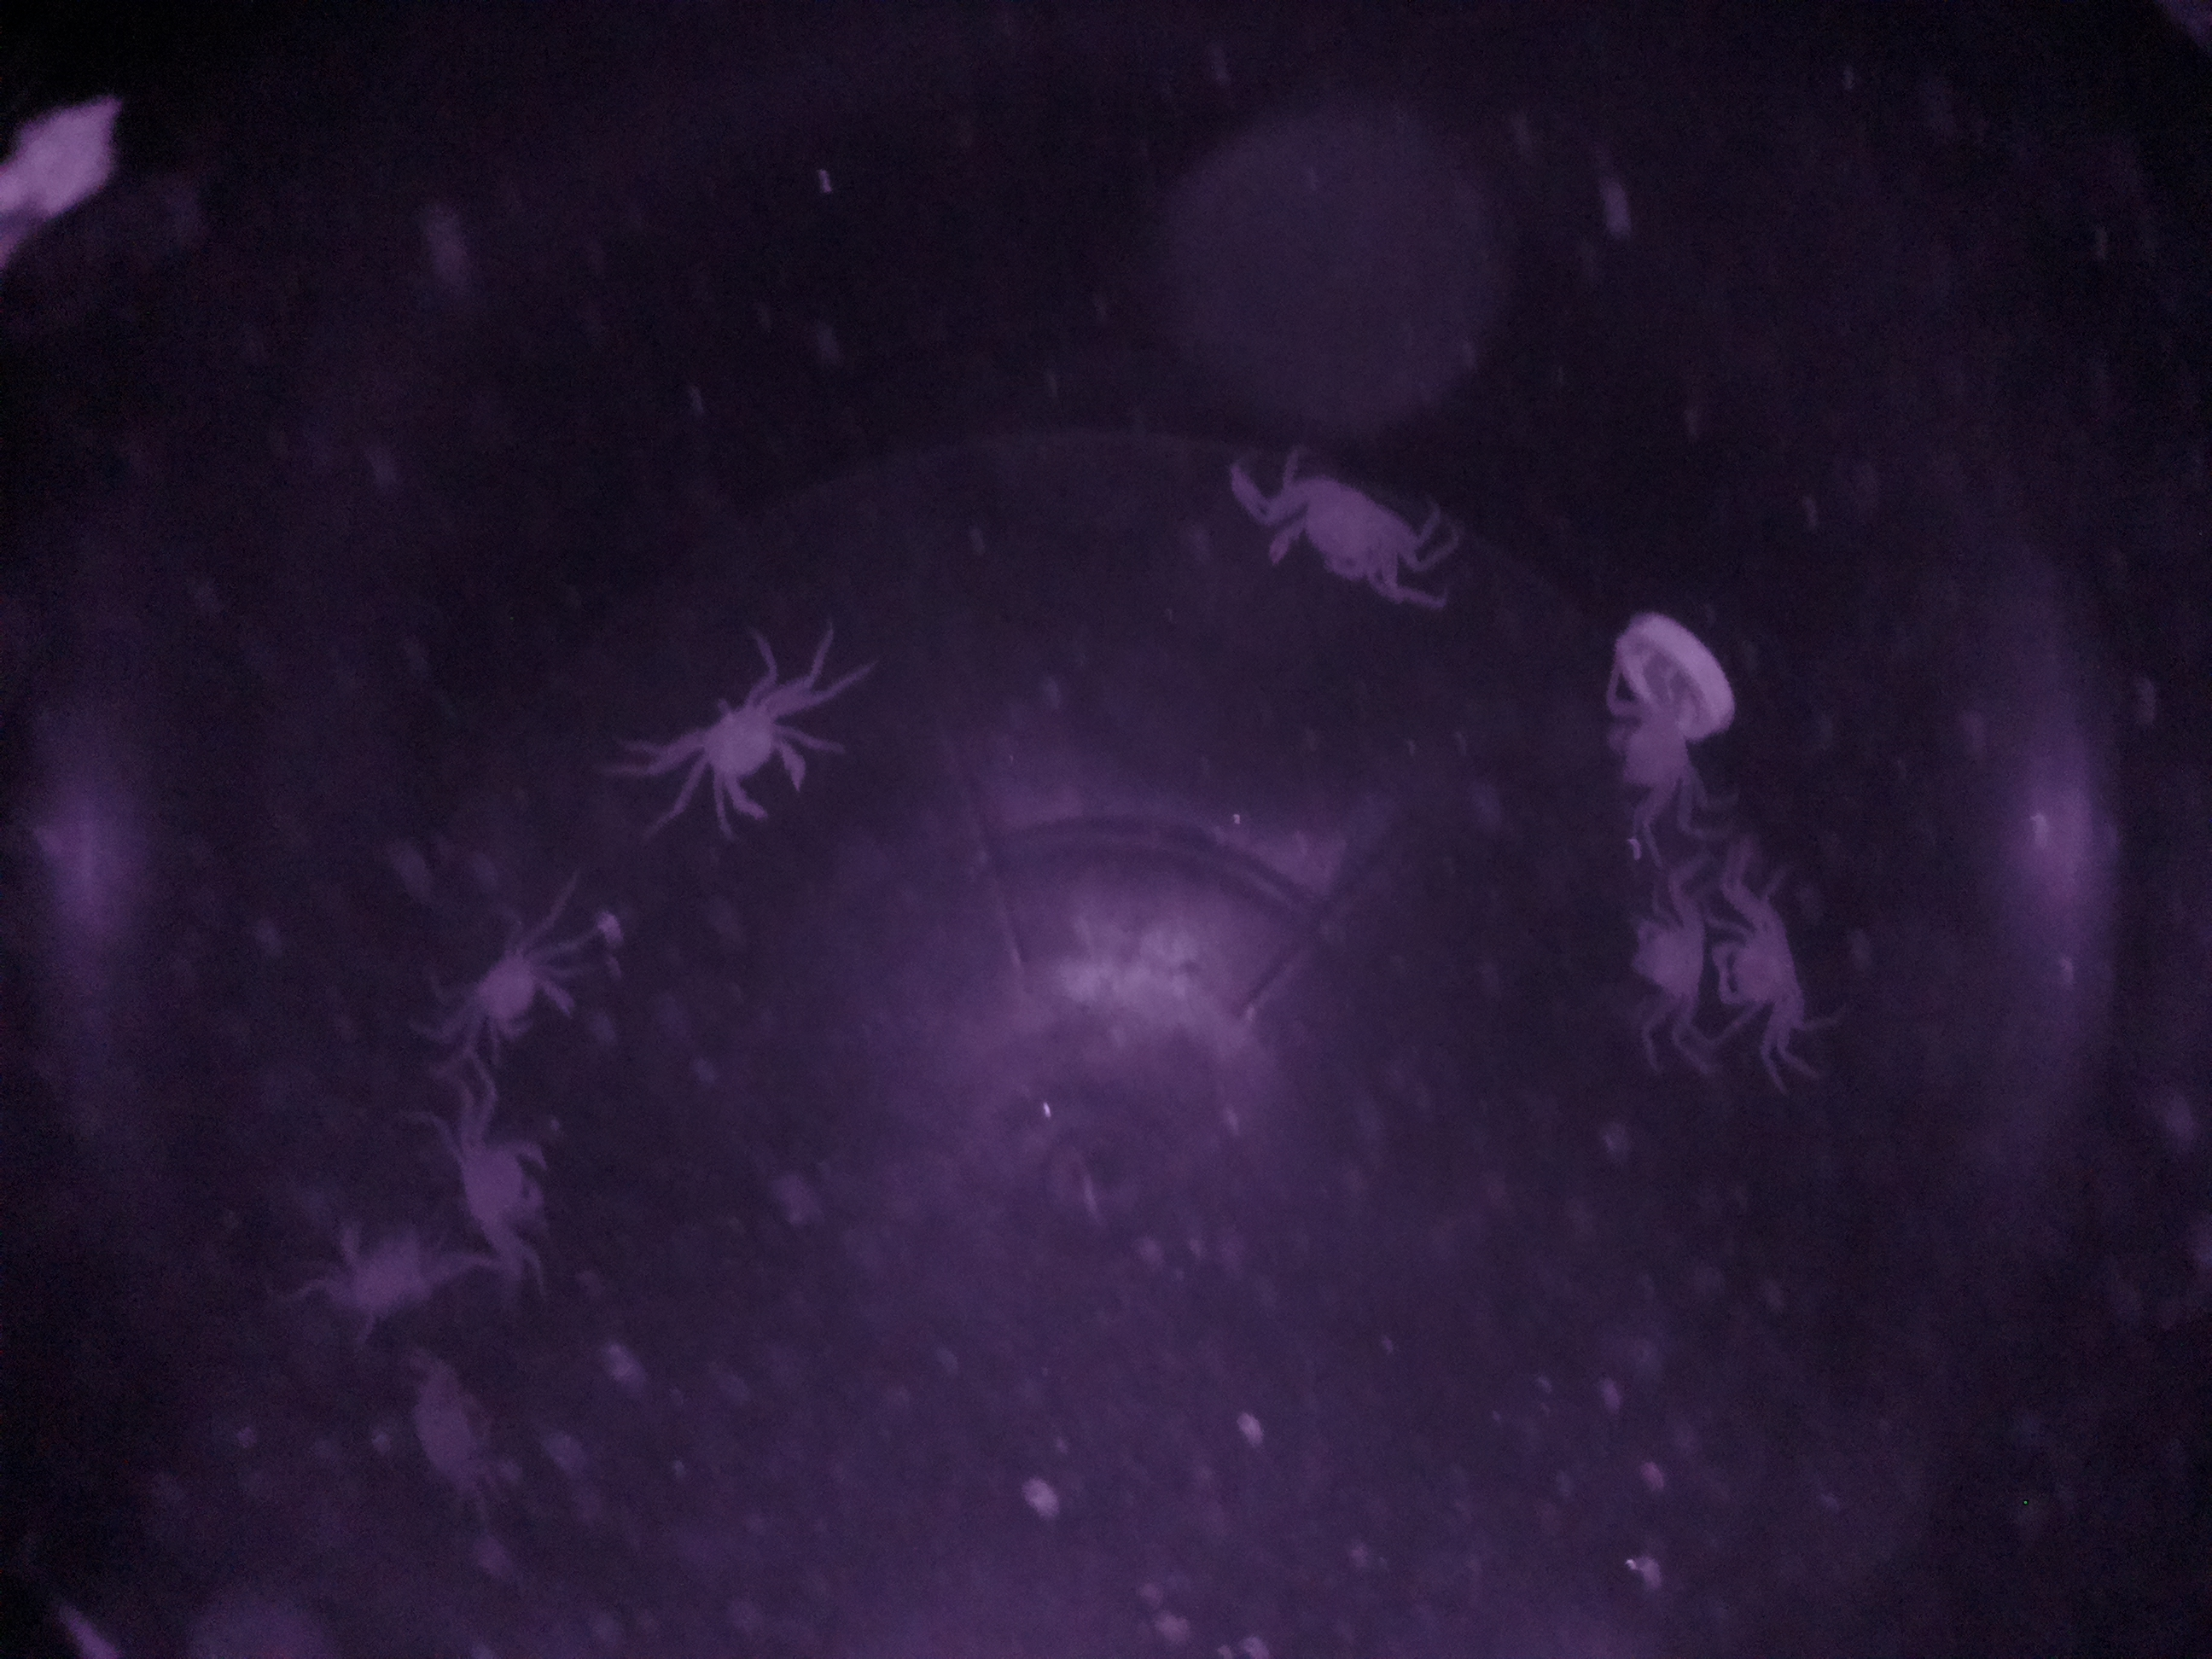Crab: (1235, 436, 1447, 617), (667, 655, 838, 847), (444, 903, 599, 1070), (1702, 850, 1810, 1089), (430, 1079, 570, 1263), (1602, 870, 1695, 1094)
